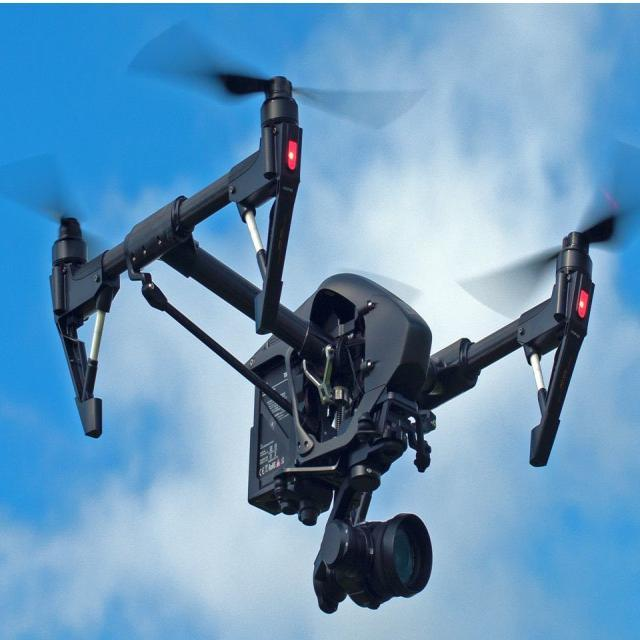drone: (0, 17, 640, 615)
